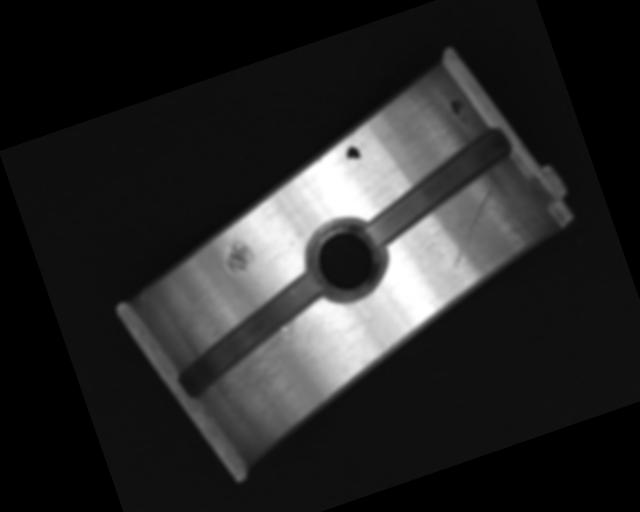blot: (447, 95, 471, 126), (344, 143, 365, 169)
bruise: (218, 230, 259, 276)
gap: (160, 269, 343, 401), (348, 124, 529, 249)
hole: (299, 210, 392, 308)
nick: (432, 187, 514, 271)
scratch: (192, 304, 348, 435)
